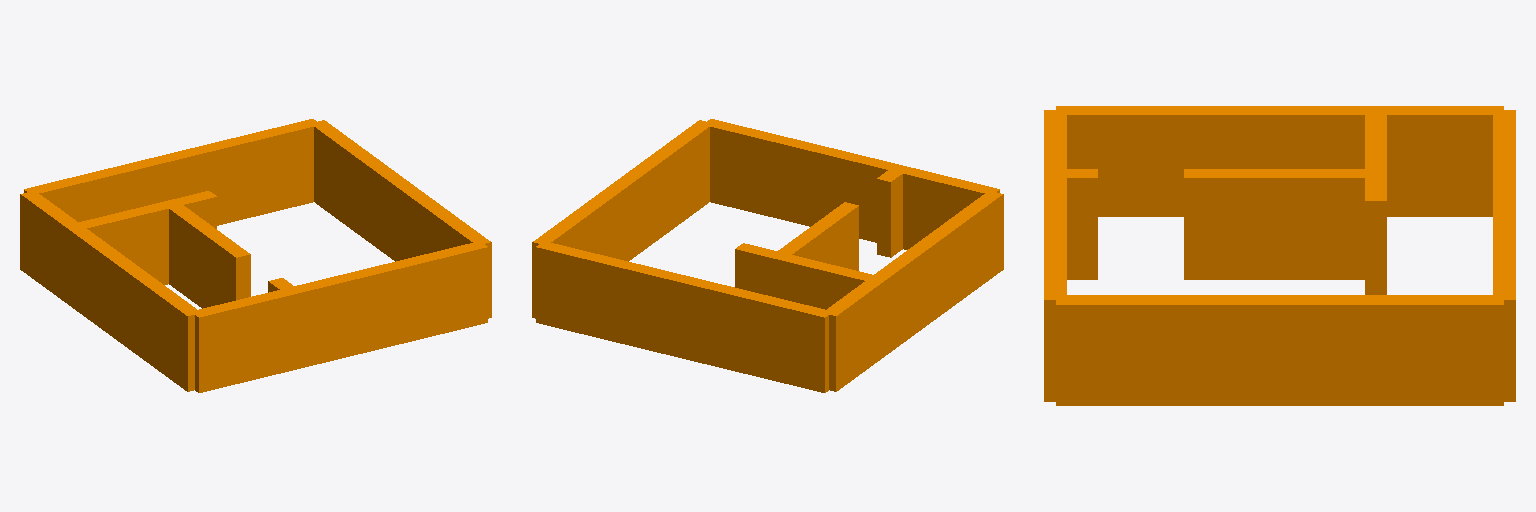
robot.urdf — room:
<?xml version="1.0" encoding="UTF-8"?>
<robot name="room">

<material name="custom_color">
  <color rgba="1.0 0.6 0.0 1.0"/>
</material>
  <link name="odom_link">
    <inertial>
      <origin xyz="0.000 0.000 0.000" rpy="0.000 0.000 0.000"/>
      <mass value="0.000"/>
      <inertia
        ixx="0.00000" ixy="0.00000" ixz="0.00000"
        iyy="0.00000" iyz="0.00000"
        izz="0.00000"/>
    </inertial>
    <collision>
      <geometry>
        <box size="0.000 0.000 0.000"/>
      </geometry>
    </collision>
  </link>
  <link name="wall_0">
    <visual>
      <geometry>
        <box size="4.000 0.200 1.000"/>
      </geometry>
      <origin xyz="0.00000 0.00000 0.00000"/>
      <material name="custom_color"/>
    </visual>
    <inertial>
      <origin xyz="0.000 0.000 0.000" rpy ="0.000 0.000 0.000"/>
      <mass value="10000.000"/>
      <inertia
        ixx="1000.00000" ixy="1000.00000" ixz="1000.00000"
        iyy="1000.00000" iyz="1000.00000"
        izz="1000.00000"/>
    </inertial>
    <collision>
      <origin xyz="0.000 0.000 0.000" rpy ="0.000 0.000 0.000"/>
      <geometry>
        <box size="4.000 0.200 1.000"/>
      </geometry>
    </collision>
  </link>

  <link name="wall_1">
    <visual>
      <geometry>
        <box size="0.200 4.000 1.000"/>
      </geometry>
      <origin xyz="0.00000 0.00000 0.00000"/>
      <material name="custom_color"/>
    </visual>
    <inertial>
      <origin xyz="0.000 0.000 0.000" rpy ="0.000 0.000 0.000"/>
      <mass value="10000.000"/>
      <inertia
        ixx="1000.00000" ixy="1000.00000" ixz="1000.00000"
        iyy="1000.00000" iyz="1000.00000"
        izz="1000.00000"/>
    </inertial>
    <collision>
      <origin xyz="0.000 0.000 0.000" rpy ="0.000 0.000 0.000"/>
      <geometry>
        <box size="0.200 4.000 1.000"/>
      </geometry>
    </collision>
  </link>

  <link name="wall_2">
    <visual>
      <geometry>
        <box size="1.905 0.200 1.000"/>
      </geometry>
      <origin xyz="0.00000 0.00000 0.00000"/>
      <material name="custom_color"/>
    </visual>
    <inertial>
      <origin xyz="0.000 0.000 0.000" rpy ="0.000 0.000 0.000"/>
      <mass value="10000.000"/>
      <inertia
        ixx="1000.00000" ixy="1000.00000" ixz="1000.00000"
        iyy="1000.00000" iyz="1000.00000"
        izz="1000.00000"/>
    </inertial>
    <collision>
      <origin xyz="0.000 0.000 0.000" rpy ="0.000 0.000 0.000"/>
      <geometry>
        <box size="1.905 0.200 1.000"/>
      </geometry>
    </collision>
  </link>

  <link name="wall_3">
    <visual>
      <geometry>
        <box size="4.000 0.200 1.000"/>
      </geometry>
      <origin xyz="0.00000 0.00000 0.00000"/>
      <material name="custom_color"/>
    </visual>
    <inertial>
      <origin xyz="0.000 0.000 0.000" rpy ="0.000 0.000 0.000"/>
      <mass value="10000.000"/>
      <inertia
        ixx="1000.00000" ixy="1000.00000" ixz="1000.00000"
        iyy="1000.00000" iyz="1000.00000"
        izz="1000.00000"/>
    </inertial>
    <collision>
      <origin xyz="0.000 0.000 0.000" rpy ="0.000 0.000 0.000"/>
      <geometry>
        <box size="4.000 0.200 1.000"/>
      </geometry>
    </collision>
  </link>

  <link name="wall_4">
    <visual>
      <geometry>
        <box size="0.200 0.381 1.000"/>
      </geometry>
      <origin xyz="0.00000 0.00000 0.00000"/>
      <material name="custom_color"/>
    </visual>
    <inertial>
      <origin xyz="0.000 0.000 0.000" rpy ="0.000 0.000 0.000"/>
      <mass value="10000.000"/>
      <inertia
        ixx="1000.00000" ixy="1000.00000" ixz="1000.00000"
        iyy="1000.00000" iyz="1000.00000"
        izz="1000.00000"/>
    </inertial>
    <collision>
      <origin xyz="0.000 0.000 0.000" rpy ="0.000 0.000 0.000"/>
      <geometry>
        <box size="0.200 0.381 1.000"/>
      </geometry>
    </collision>
  </link>

  <link name="wall_5">
    <visual>
      <geometry>
        <box size="0.200 1.714 1.000"/>
      </geometry>
      <origin xyz="0.00000 0.00000 0.00000"/>
      <material name="custom_color"/>
    </visual>
    <inertial>
      <origin xyz="0.000 0.000 0.000" rpy ="0.000 0.000 0.000"/>
      <mass value="10000.000"/>
      <inertia
        ixx="1000.00000" ixy="1000.00000" ixz="1000.00000"
        iyy="1000.00000" iyz="1000.00000"
        izz="1000.00000"/>
    </inertial>
    <collision>
      <origin xyz="0.000 0.000 0.000" rpy ="0.000 0.000 0.000"/>
      <geometry>
        <box size="0.200 1.714 1.000"/>
      </geometry>
    </collision>
  </link>

  <link name="wall_6">
    <visual>
      <geometry>
        <box size="0.200 4.000 1.000"/>
      </geometry>
      <origin xyz="0.00000 0.00000 0.00000"/>
      <material name="custom_color"/>
    </visual>
    <inertial>
      <origin xyz="0.000 0.000 0.000" rpy ="0.000 0.000 0.000"/>
      <mass value="10000.000"/>
      <inertia
        ixx="1000.00000" ixy="1000.00000" ixz="1000.00000"
        iyy="1000.00000" iyz="1000.00000"
        izz="1000.00000"/>
    </inertial>
    <collision>
      <origin xyz="0.000 0.000 0.000" rpy ="0.000 0.000 0.000"/>
      <geometry>
        <box size="0.200 4.000 1.000"/>
      </geometry>
    </collision>
  </link>





  <joint name="wall_0_joint" type="fixed" dont_collapse="true">
    <parent link="odom_link"/>
    <child  link="wall_0"/>
    <origin xyz="0.00000 -2.00000 0.50000"/>
  </joint>

  <joint name="wall_1_joint" type="fixed" dont_collapse="true">
    <parent link="odom_link"/>
    <child  link="wall_1"/>
    <origin xyz="-2.00000 0.00000 0.50000"/>
  </joint>

  <joint name="wall_2_joint" type="fixed" dont_collapse="true">
    <parent link="odom_link"/>
    <child  link="wall_2"/>
    <origin xyz="-1.04762 0.85714 0.50000"/>
  </joint>

  <joint name="wall_3_joint" type="fixed" dont_collapse="true">
    <parent link="odom_link"/>
    <child  link="wall_3"/>
    <origin xyz="0.00000 2.00000 0.50000"/>
  </joint>

  <joint name="wall_4_joint" type="fixed" dont_collapse="true">
    <parent link="odom_link"/>
    <child  link="wall_4"/>
    <origin xyz="-0.66667 -1.80952 0.50000"/>
  </joint>

  <joint name="wall_5_joint" type="fixed" dont_collapse="true">
    <parent link="odom_link"/>
    <child  link="wall_5"/>
    <origin xyz="-0.66667 0.00000 0.50000"/>
  </joint>

  <joint name="wall_6_joint" type="fixed" dont_collapse="true">
    <parent link="odom_link"/>
    <child  link="wall_6"/>
    <origin xyz="2.00000 0.00000 0.50000"/>
  </joint>

</robot>

--- Render facts (derived) ---
The picture shows the robot from 3 angles, left to right: view 1: azimuth 30°, elevation 25°; view 2: azimuth 150°, elevation 25°; view 3: azimuth 270°, elevation 25°; orthographic projection.
Robot: room — 8 links, 7 joints (7 fixed); root link odom_link; default pose: every joint at zero.
Links seen in each view (by area): view 1: wall_0, wall_3, wall_1, wall_6, wall_5, wall_2; view 2: wall_3, wall_0, wall_1, wall_6, wall_2, wall_5, wall_4; view 3: wall_6, wall_1, wall_5, wall_0, wall_3, wall_2, wall_4.
Boxes of the visible links, box(x1,y1,x2,y2) form: wall_0: box(191, 242, 487, 392); wall_3: box(24, 119, 320, 225); wall_1: box(20, 191, 201, 391); wall_6: box(314, 120, 491, 318); wall_5: box(165, 202, 250, 308); wall_2: box(73, 191, 216, 284); wall_3: box(536, 243, 832, 392); wall_0: box(703, 119, 999, 249); wall_1: box(822, 191, 1003, 391); wall_6: box(532, 120, 709, 318); wall_2: box(735, 243, 873, 309); wall_5: box(774, 202, 858, 270); wall_4: box(877, 167, 906, 257); wall_6: box(1056, 295, 1503, 405); wall_1: box(1056, 106, 1503, 216); wall_5: box(1184, 169, 1375, 279); wall_0: box(1044, 110, 1066, 401); wall_3: box(1493, 110, 1515, 401); wall_2: box(1365, 110, 1386, 294); wall_4: box(1056, 169, 1097, 279).
Bounding box of the posed robot: 4.2 × 4.2 × 1 m (x, y, z).
Geometry: primitives only (box / cylinder / sphere), no mesh files.
